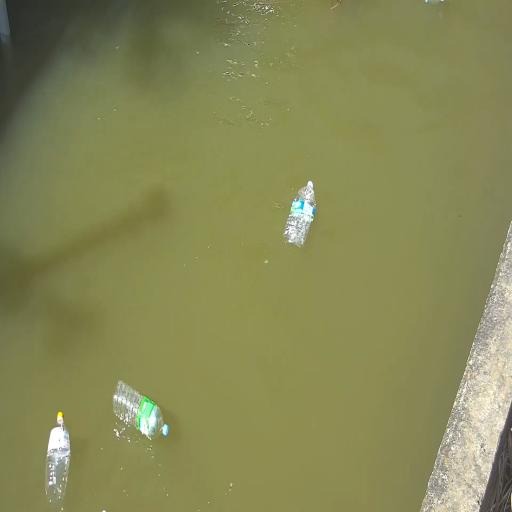plastic: (113, 380, 168, 437), (46, 412, 70, 504), (284, 181, 315, 247)
